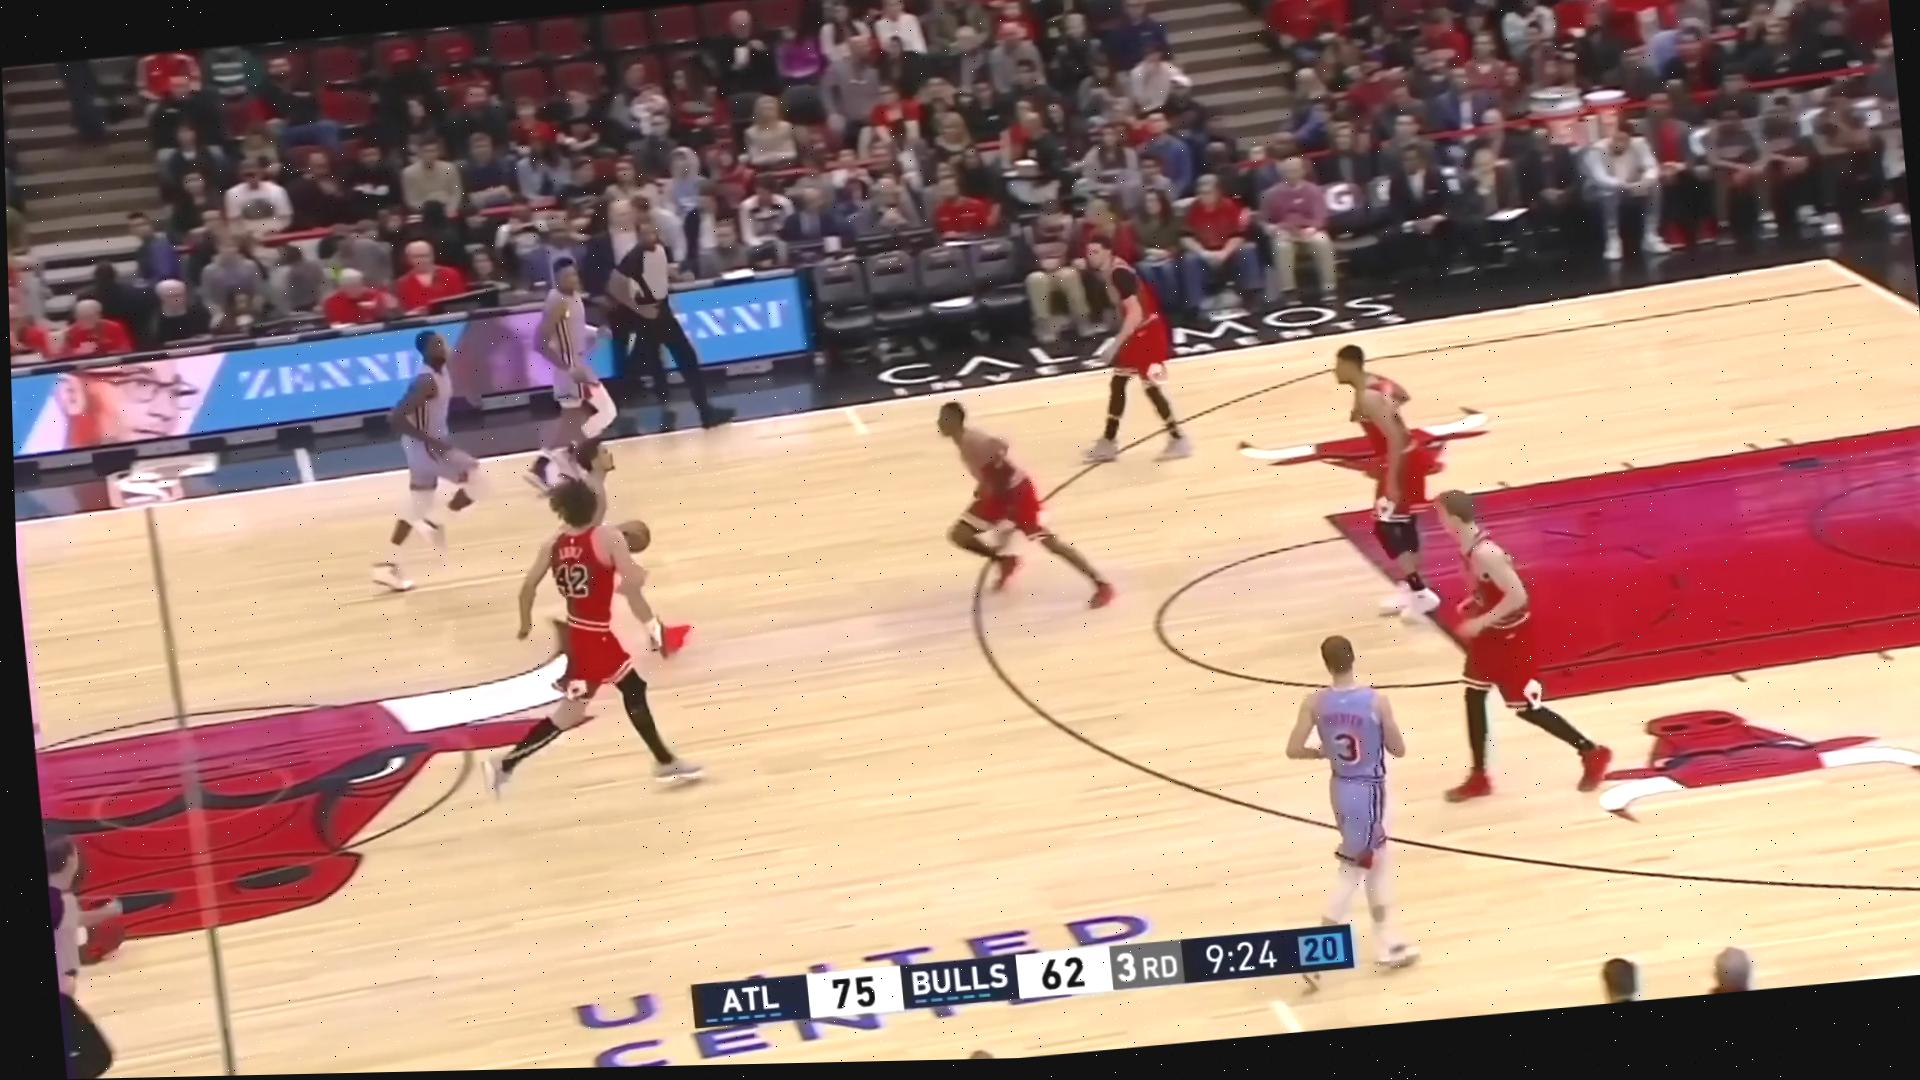no_foul: (479, 421, 737, 793)
